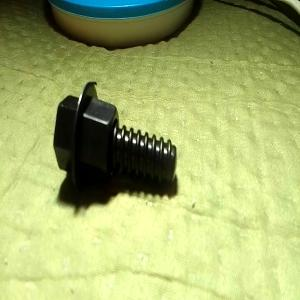parafuso: (53, 81, 177, 192)
